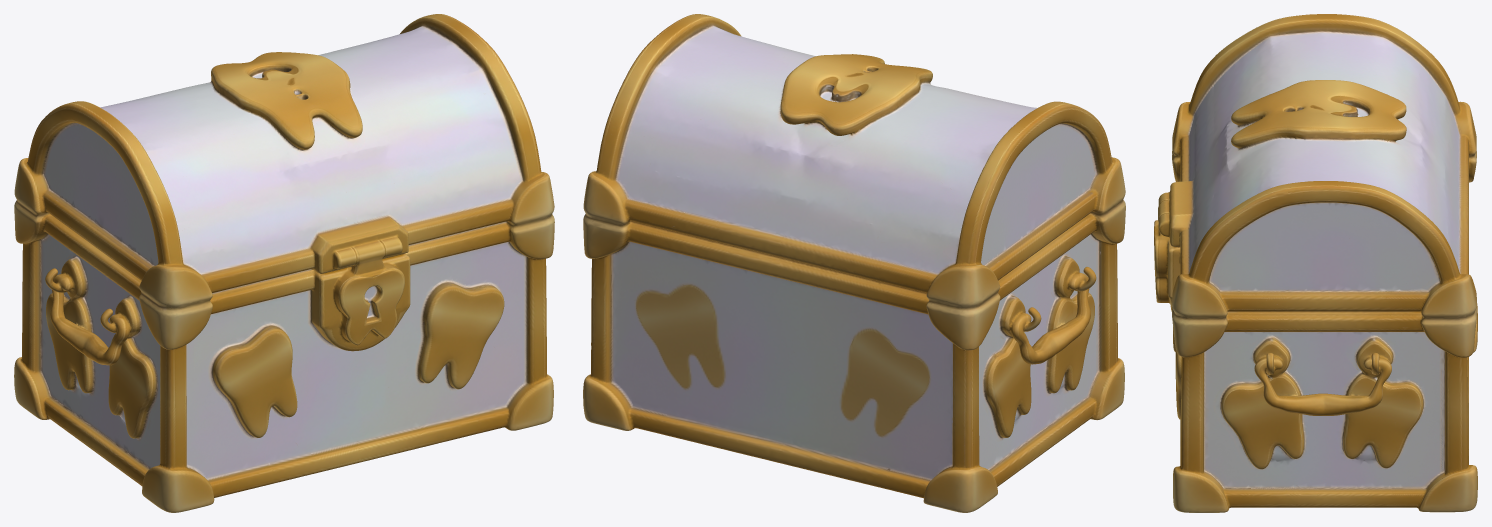
File: AmmoChestClosed.glb
3 renders of one model, left to right at view 1: azimuth 30°, elevation 25°; view 2: azimuth 150°, elevation 25°; view 3: azimuth 270°, elevation 25°, orthographic. The views are drawn at different scales.
Bounding box in the file's own units: 1.9 × 1.45 × 1.31.
Materials: 1 (1 with a texture image).
